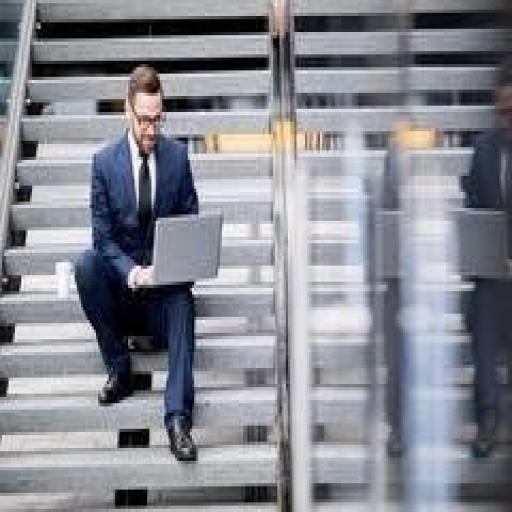sitting: (72, 61, 202, 461)
